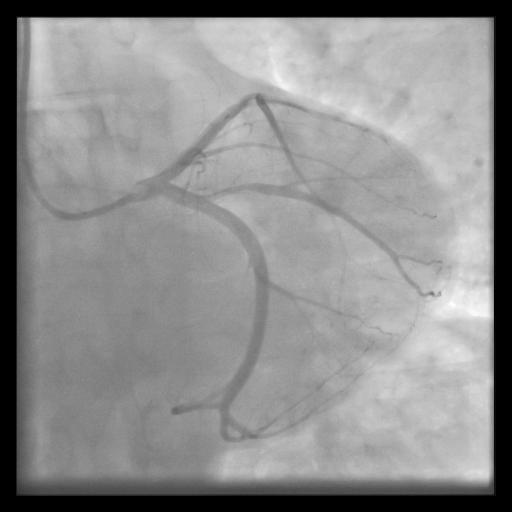Stenosis: (206, 181, 262, 197)
